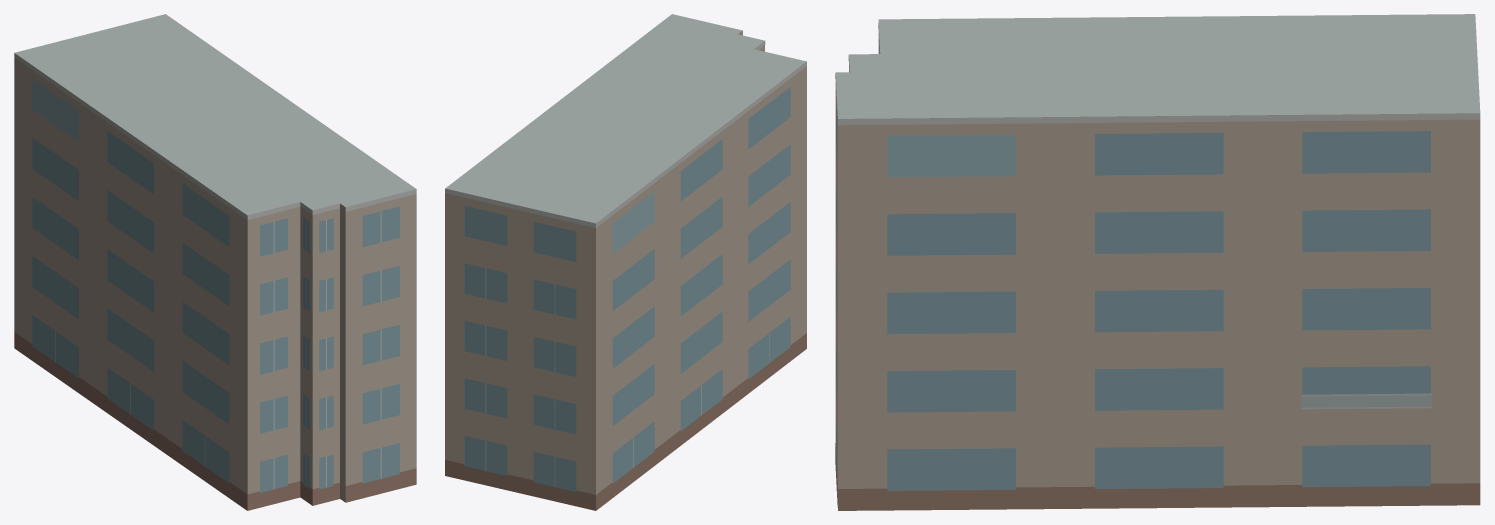
The model's file is survey-upis-32610866.glb.
3 renders of one model, left to right at view 1: azimuth 30°, elevation 25°; view 2: azimuth 150°, elevation 25°; view 3: azimuth 270°, elevation 25°, orthographic. The views are drawn at different scales.
Visible parts, largest first — view 1: survey-upis-32610866.tmp; view 2: survey-upis-32610866.tmp; view 3: survey-upis-32610866.tmp.
Part boxes in pixels (<box>): survey-upis-32610866.tmp: <box>14,14,416,510</box>; survey-upis-32610866.tmp: <box>445,14,806,510</box>; survey-upis-32610866.tmp: <box>835,14,1480,510</box>.
Size of the model in its own units: 8.77 by 15.25 by 22.75.
